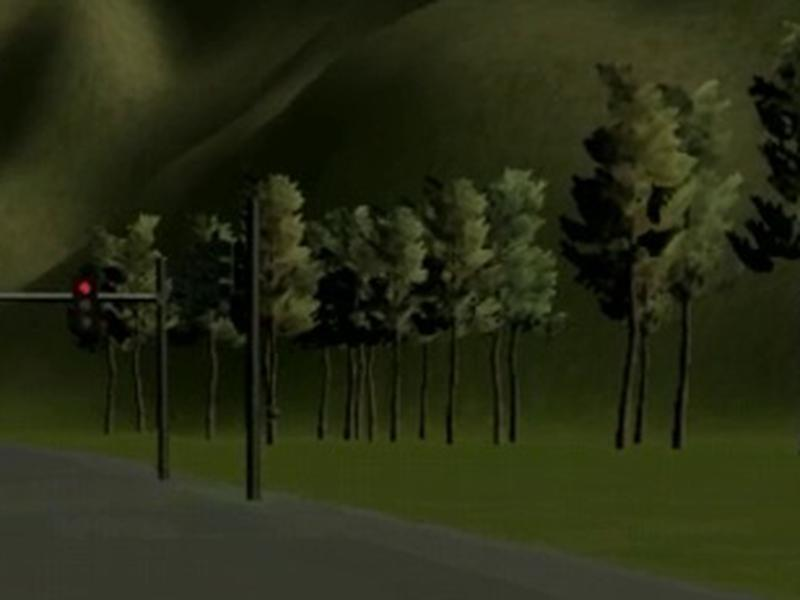Red: (68, 274, 99, 333)
